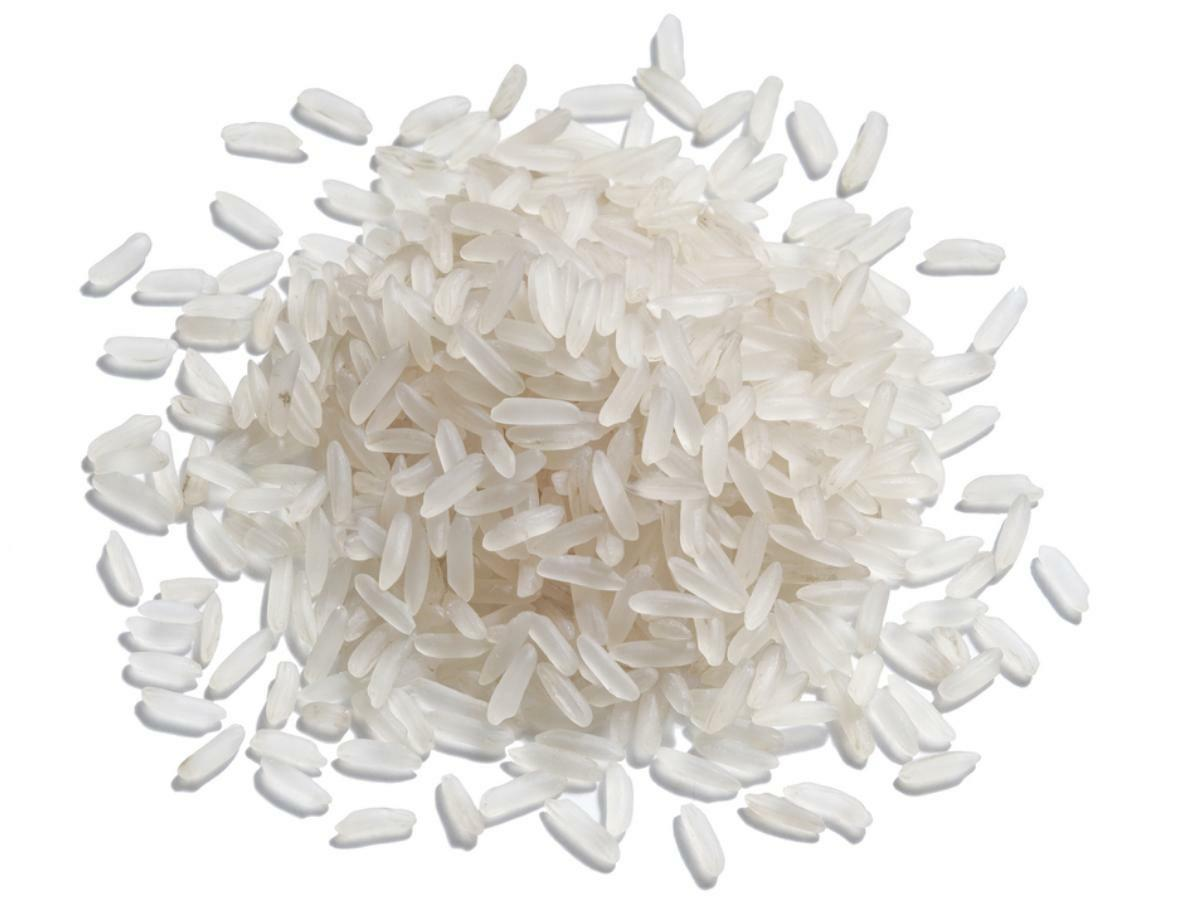WhiteRice: (83, 15, 1085, 878)
